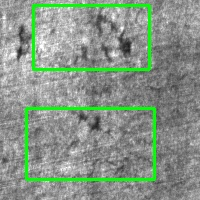crazing: (26, 108, 154, 179), (33, 5, 149, 69)
